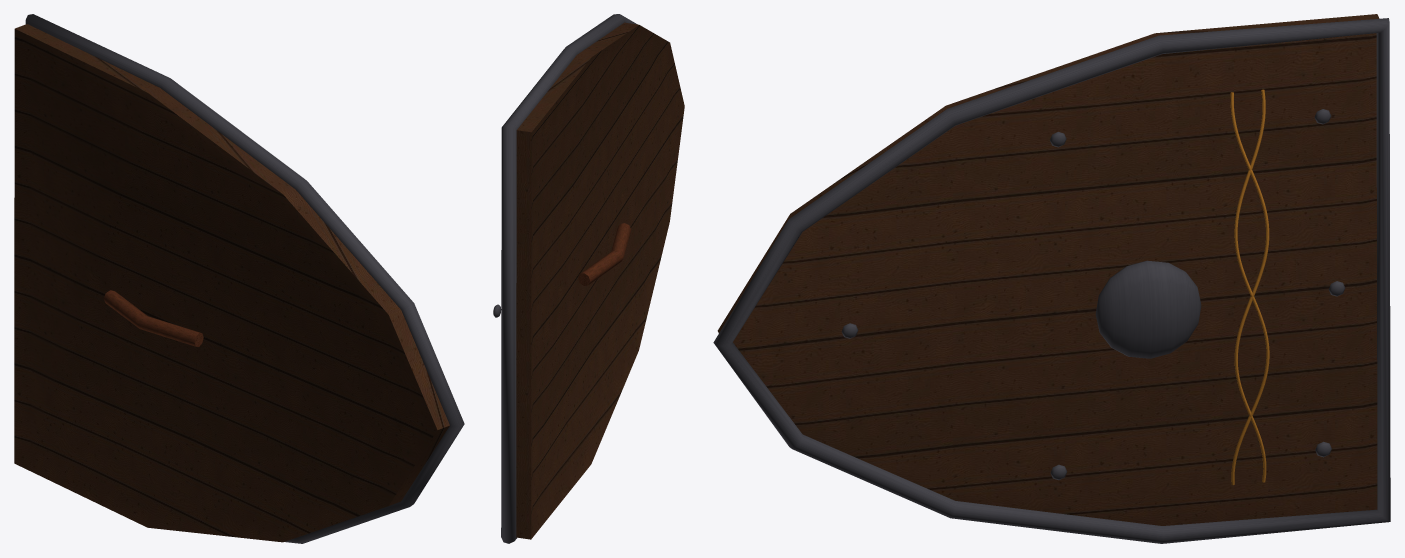
The model's file is weapon_shield.glb.
3 views of the same model, side by side, from view 1: azimuth 30°, elevation 25°; view 2: azimuth 150°, elevation 25°; view 3: azimuth 270°, elevation 25° (orthographic). The views are drawn at different scales.
Visible parts, largest first — view 1: shield; view 2: shield; view 3: shield.
Boxes of the visible parts, <box> form: shield: <box>14,14,464,543</box>; shield: <box>493,14,684,543</box>; shield: <box>713,14,1390,543</box>.
Bounding box in the file's own units: 0.1903 × 0.5174 × 0.627.
4 materials, 4 textured.
